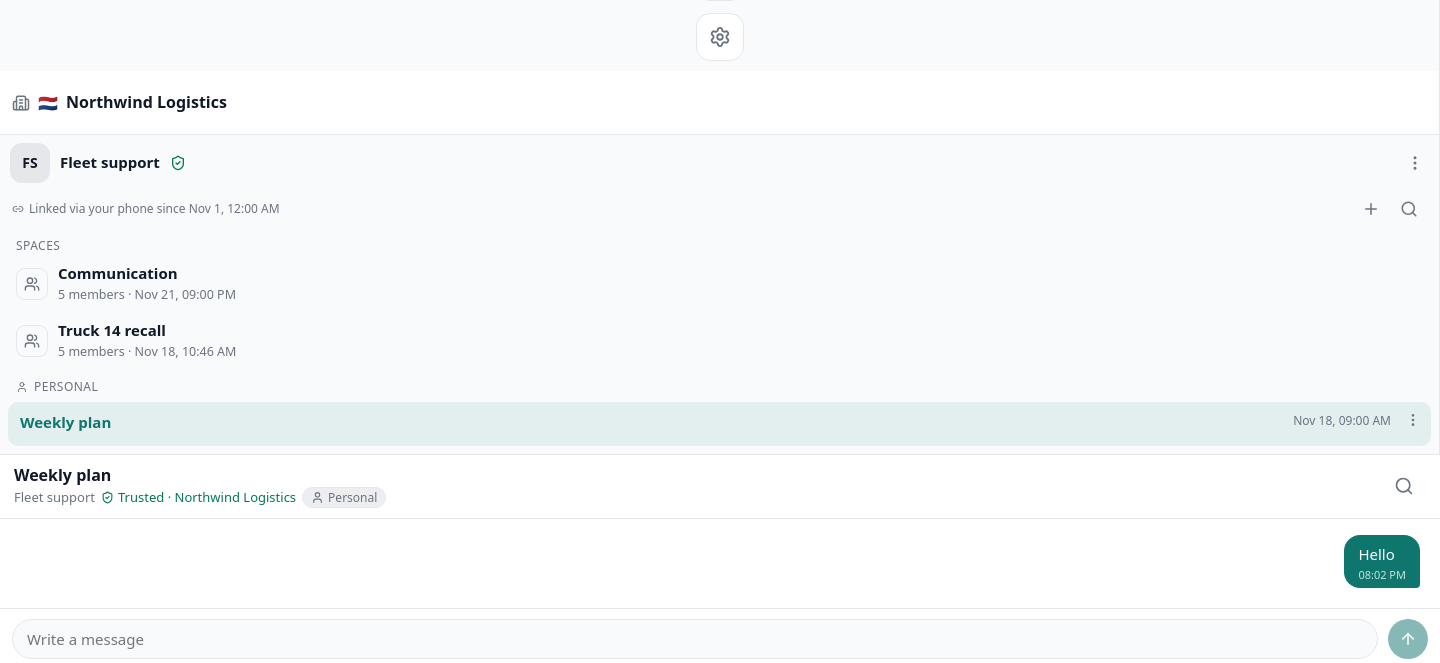
Test case: deciding in the Notifications (UI-APPR-002, UI-APPR-008, PROF-TOOL-026) › writes the time left in hours and minutes from one hour (UI-CONV-052)
The image size is (1440, 663).
Click the button with class "space-row" that starts with "Communication" at (32, 284), box [8,256,1431,311]
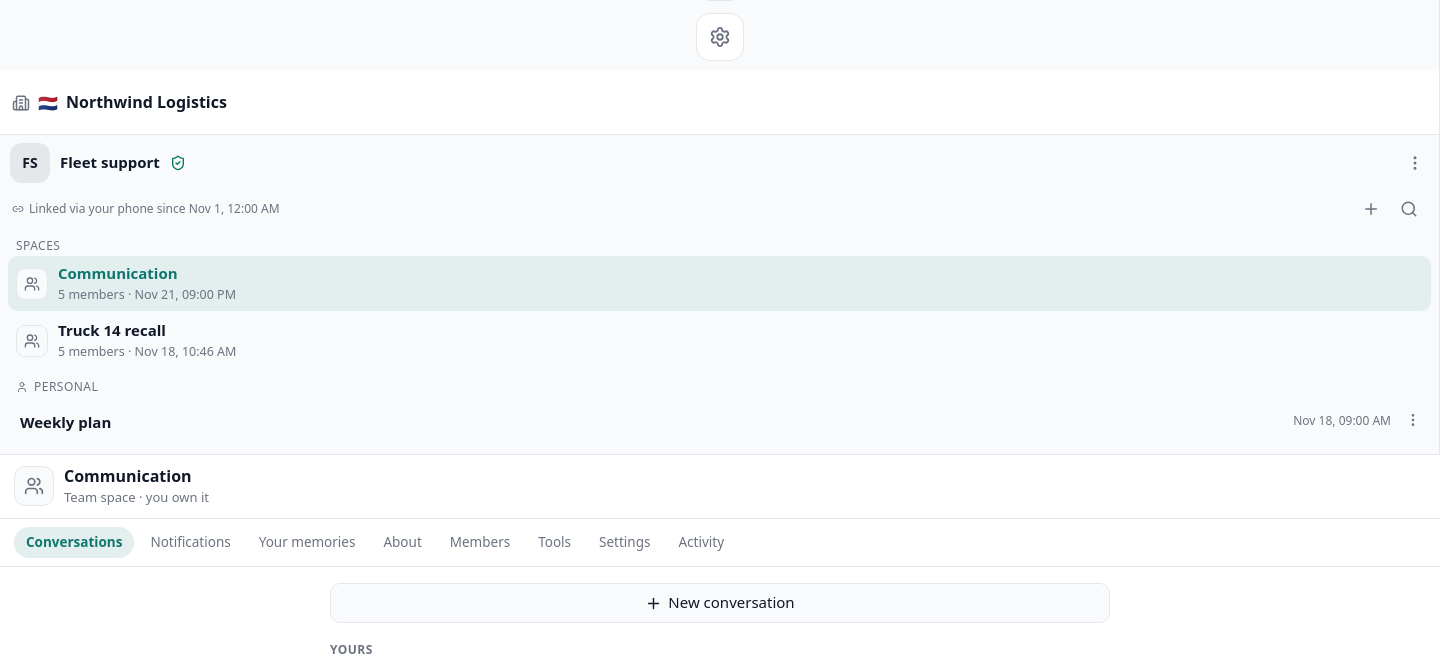
Click the tab "Notifications" at (191, 542), box [138,526,243,558]
(page scrolled)
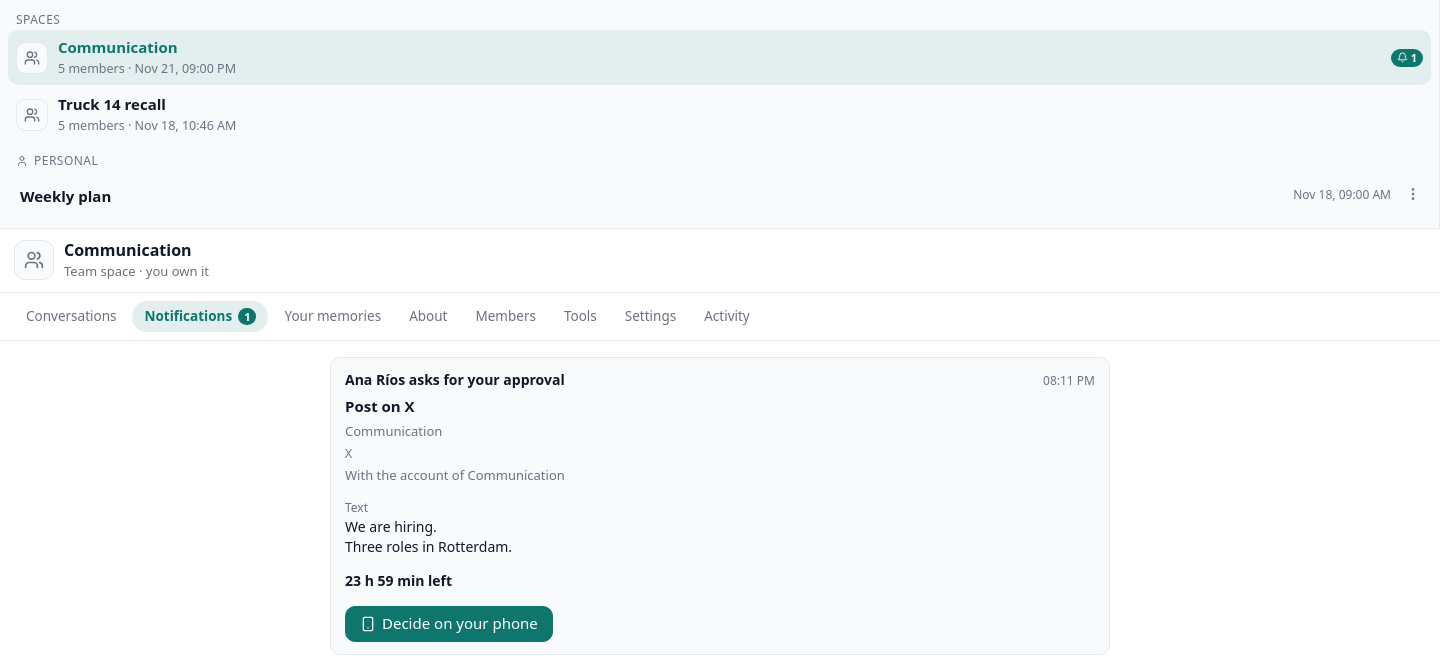
Check: the text "23 h 59 min left" is shown, box [345,571,452,592]
